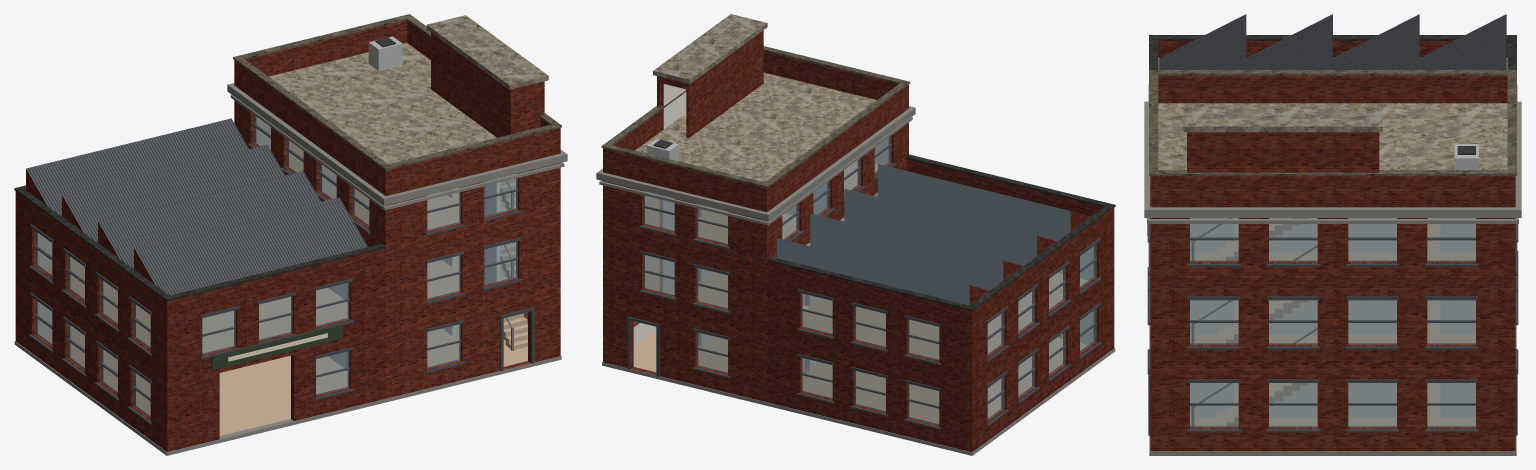
The model's file is mh-sawtooth-works.towns-v1.lod0.glb.
3 renders of one model, left to right at view 1: azimuth 30°, elevation 25°; view 2: azimuth 150°, elevation 25°; view 3: azimuth 270°, elevation 25°, orthographic. The views are drawn at different scales.
Visible parts, largest first — view 1: mh-sawtooth-works; view 2: mh-sawtooth-works; view 3: mh-sawtooth-works.
Part boxes in pixels (x1,y1,x2,y2): mh-sawtooth-works: [14, 14, 567, 455]; mh-sawtooth-works: [596, 14, 1115, 455]; mh-sawtooth-works: [1144, 14, 1521, 455].
Size of the model in its own units: 18.29 by 11.95 by 12.4.
Materials: 7 (3 with a texture image).
